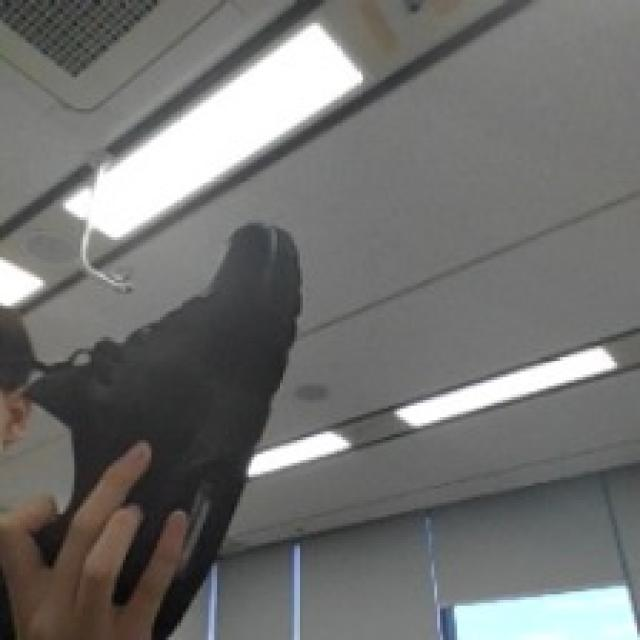shoe: (94, 191, 348, 640)
